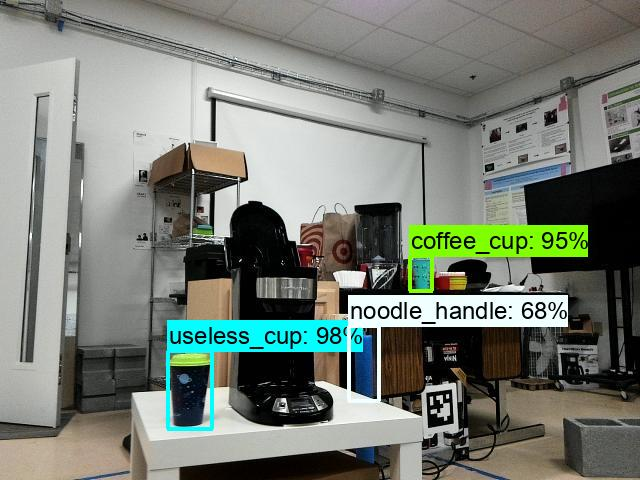coffee_cup: (408, 255, 434, 293)
noodle_handle: (350, 327, 378, 403)
useless_cup: (165, 351, 212, 425)
